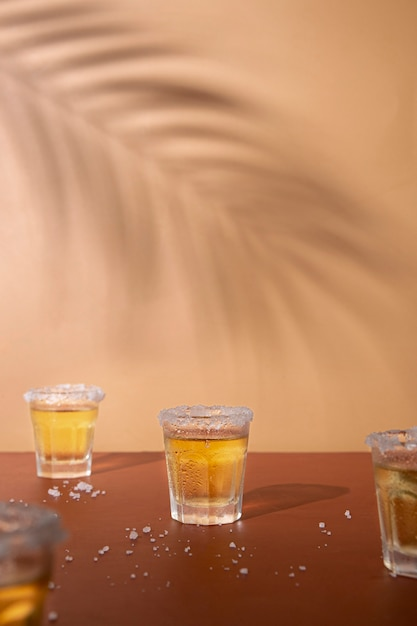alcohol: (154, 400, 258, 528), (21, 382, 105, 482), (0, 496, 62, 626), (368, 429, 417, 578)
